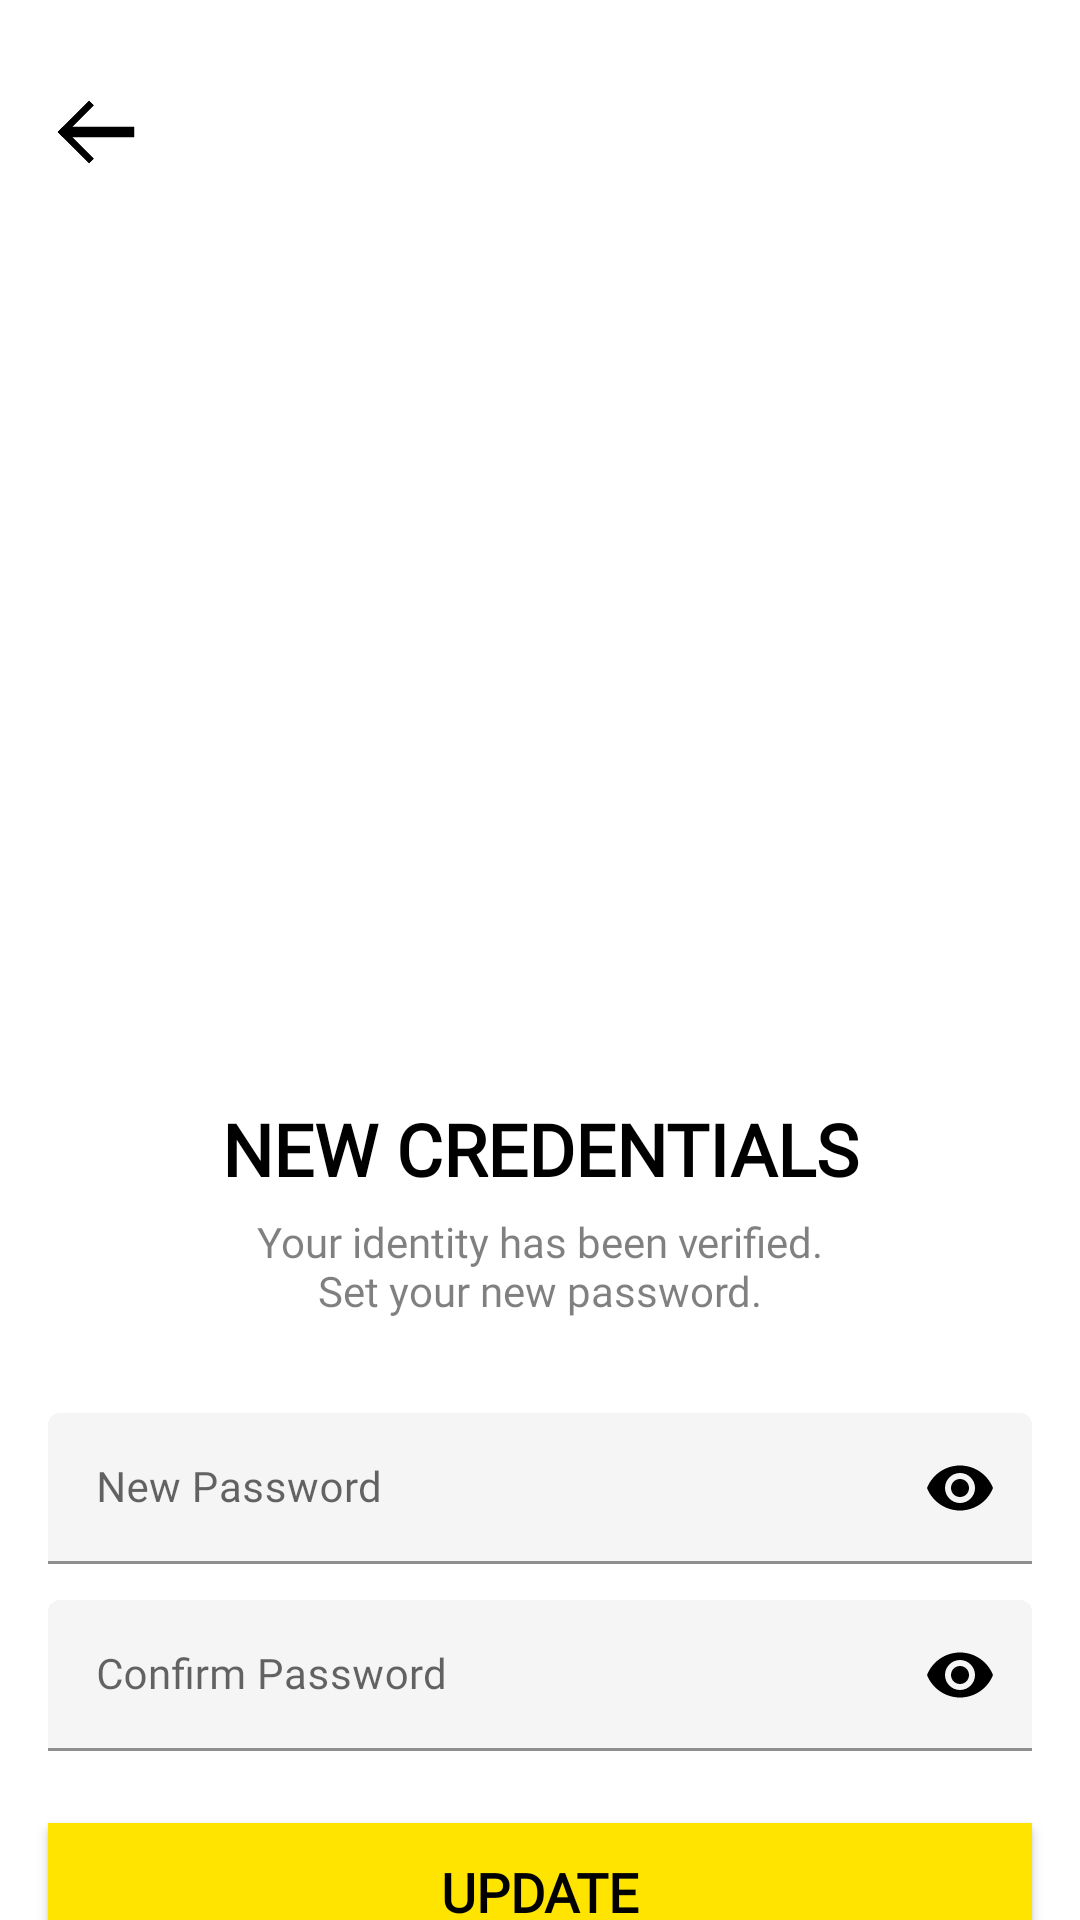

Locate icon controls on the screen. Image size 1080w x 1920h, boxes as (x1, y1, x2, y2).
back arrow: (58, 101, 135, 163)
